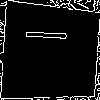I: (25, 27, 78, 44)
